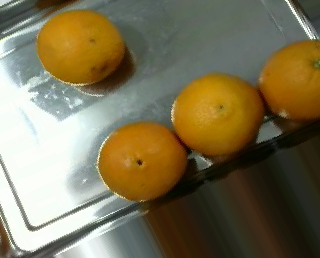Orange: (171, 72, 265, 156), (97, 121, 187, 202), (37, 10, 124, 85), (258, 39, 320, 121)
